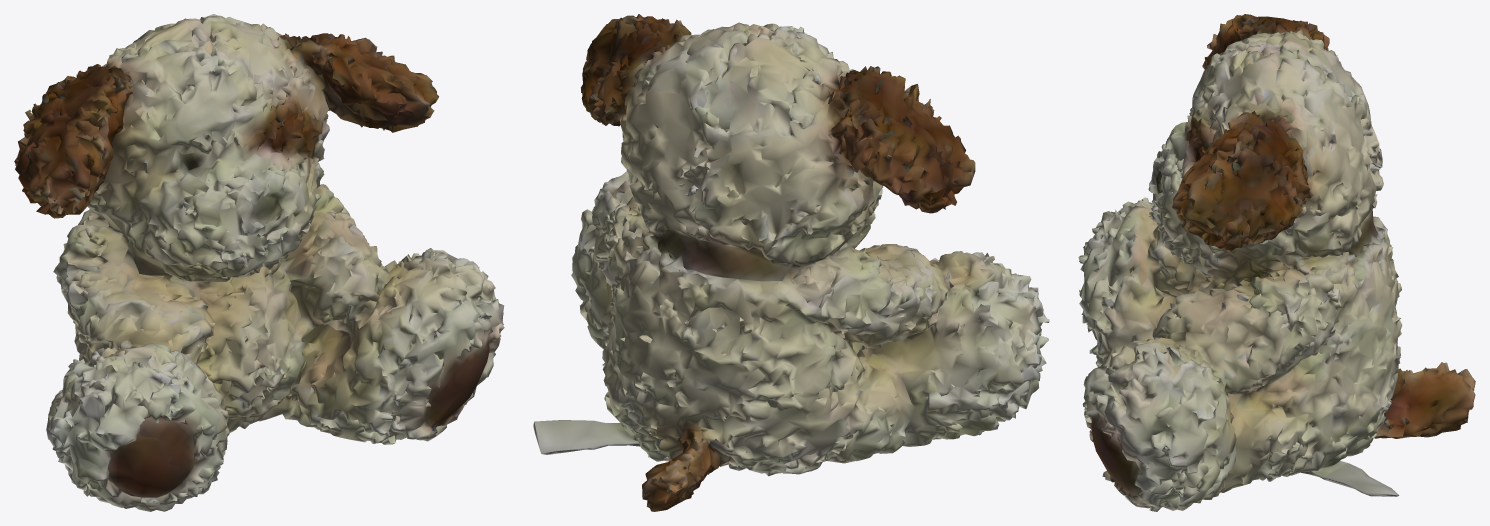
File: Dog-high.glb
The picture shows the model from 3 angles, left to right: view 1: azimuth 30°, elevation 25°; view 2: azimuth 150°, elevation 25°; view 3: azimuth 270°, elevation 25°; orthographic projection. The views are drawn at different scales.
Parts seen in each view (by area): view 1: Dog; view 2: Dog; view 3: Dog.
Part boxes in pixels (x1,y1,x2,y2): Dog: (14, 14, 504, 511); Dog: (533, 14, 1049, 511); Dog: (1078, 14, 1475, 511).
Bounding box in the file's own units: 0.232 × 0.1992 × 0.186.
1 material, 1 textured.
